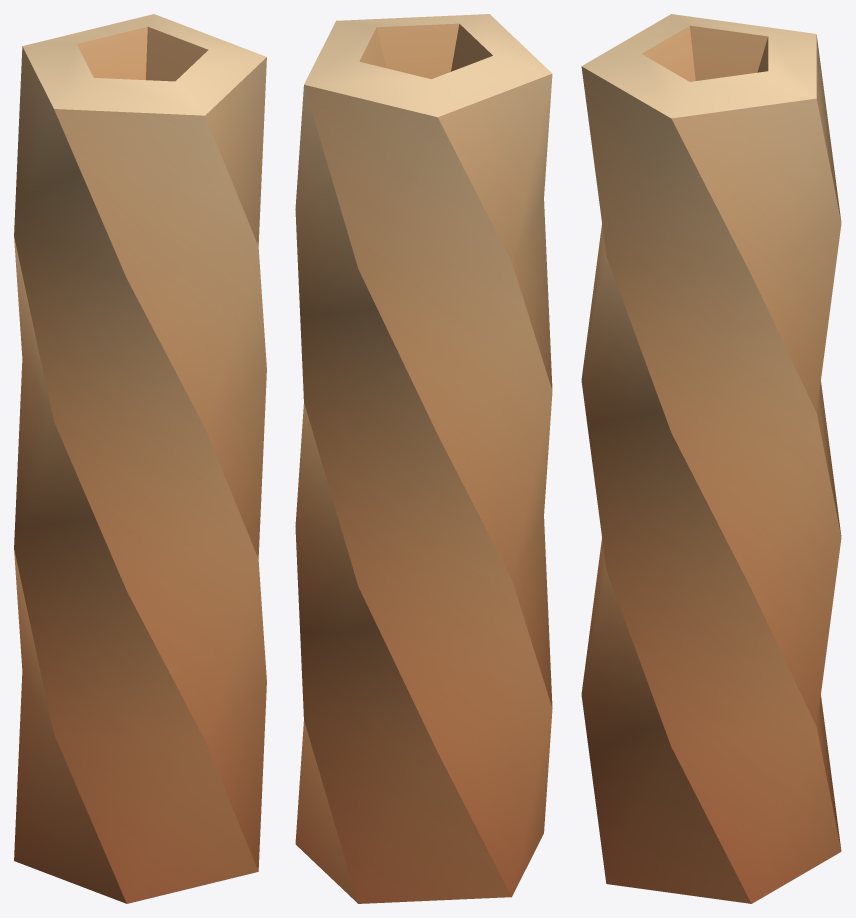
Rendered from icecream_cookiestick.obj.
The picture shows the model from 3 angles, left to right: view 1: azimuth 30°, elevation 25°; view 2: azimuth 150°, elevation 25°; view 3: azimuth 270°, elevation 25°; orthographic projection.
Visible parts, largest first — view 1: icecream_cookiestick_Cylinder.319; view 2: icecream_cookiestick_Cylinder.319; view 3: icecream_cookiestick_Cylinder.319.
Boxes of the visible parts, x1,y1,x2,y2 form: icecream_cookiestick_Cylinder.319: [14, 14, 266, 903]; icecream_cookiestick_Cylinder.319: [295, 14, 552, 903]; icecream_cookiestick_Cylinder.319: [581, 14, 841, 903].
Size of the model in its own units: 0.1427 by 0.5158 by 0.15.
Materials: 1 (1 with a texture image).
